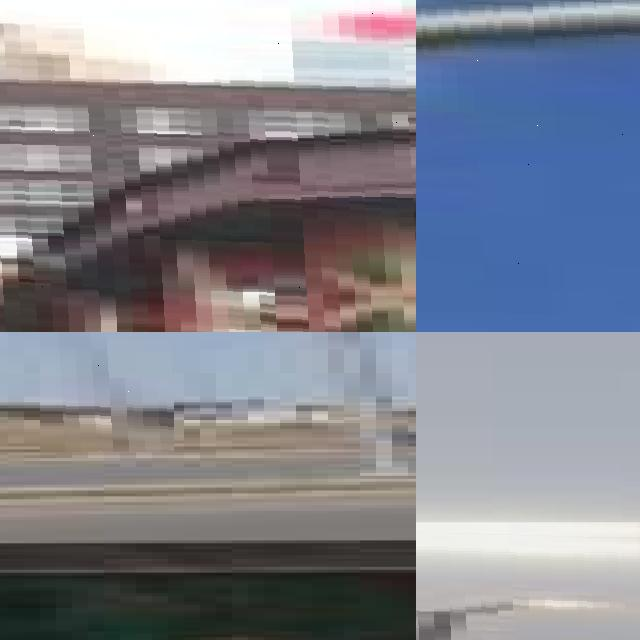street light: (0, 0, 416, 332), (416, 0, 640, 332), (416, 522, 640, 640), (42, 332, 174, 452)
